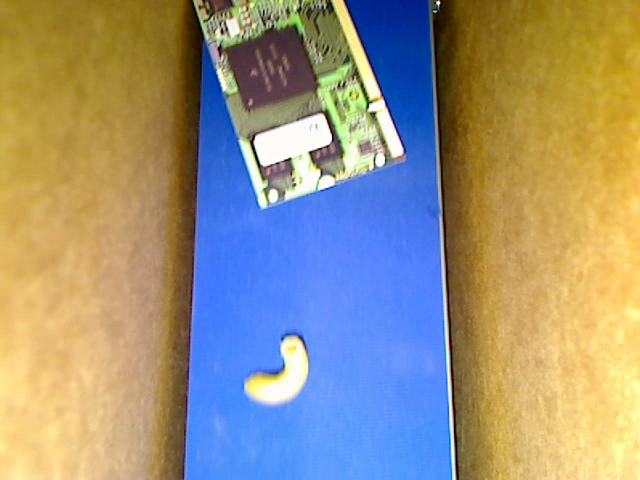elbow: (244, 332, 310, 406)
